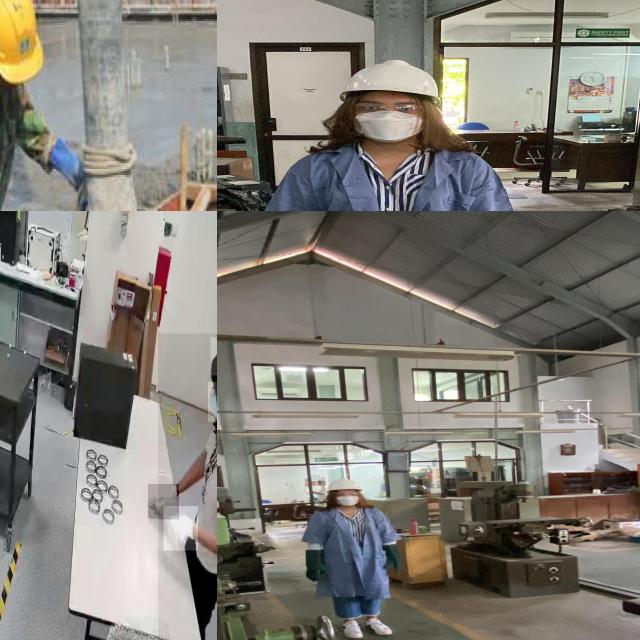face_mask: (353, 99, 427, 144), (332, 489, 362, 507), (208, 381, 217, 421)
glasses: (351, 101, 427, 120), (332, 490, 362, 498)
hand_glove: (164, 506, 198, 551), (148, 484, 179, 519), (300, 562, 331, 582), (380, 556, 404, 570)
head_helmet: (336, 58, 440, 100), (0, 0, 50, 87), (325, 477, 363, 491)
person: (249, 56, 527, 211), (158, 333, 217, 640), (301, 477, 410, 640), (0, 0, 70, 211)
shoes: (362, 615, 398, 637), (338, 617, 367, 640)
